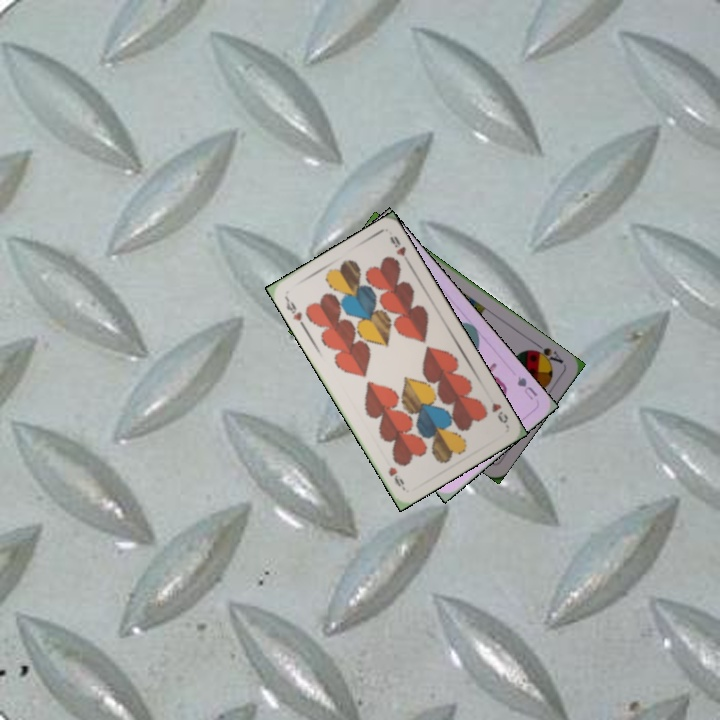GU: (513, 372, 540, 403)
H9: (281, 293, 305, 324), (488, 399, 511, 426)
SA: (527, 338, 566, 367)
